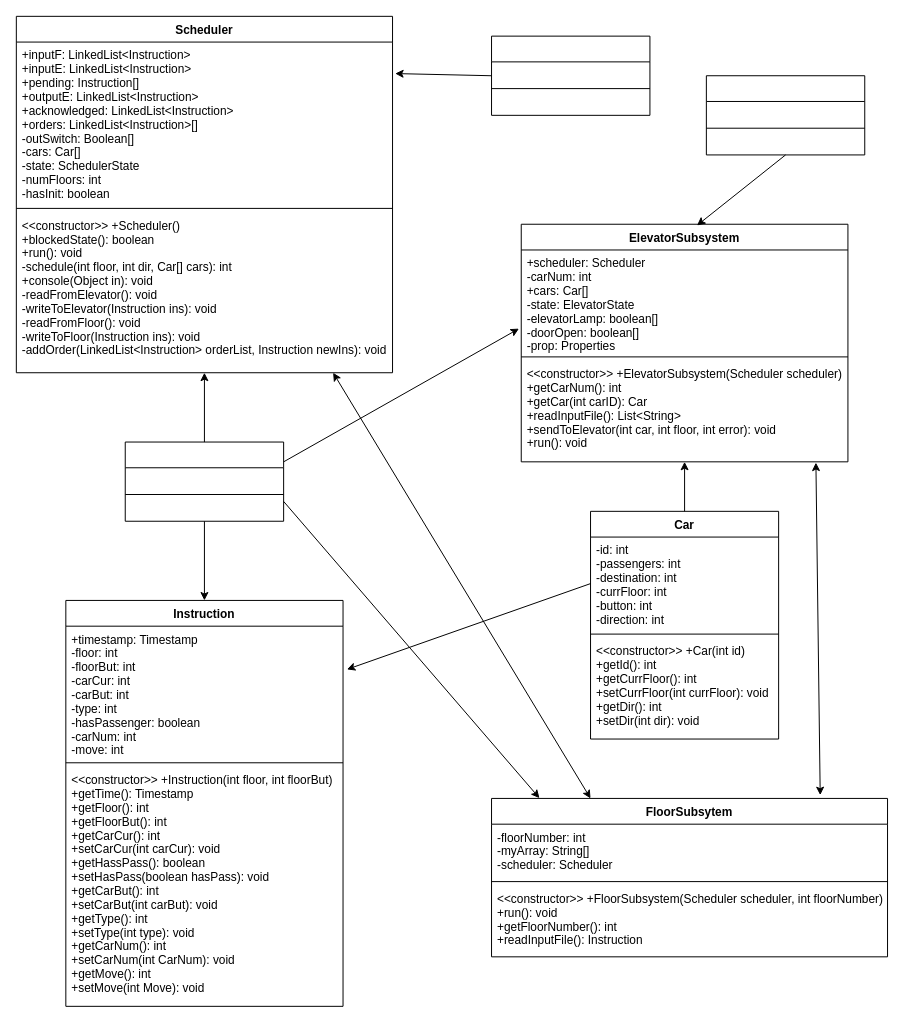
This 904x1023 diagram has some shape labels left out. Each missing label, with the box of its shape:
ElevatorState: (705, 75, 865, 155)
SchedulerState: (491, 35, 650, 115)
Start: (124, 441, 284, 521)
